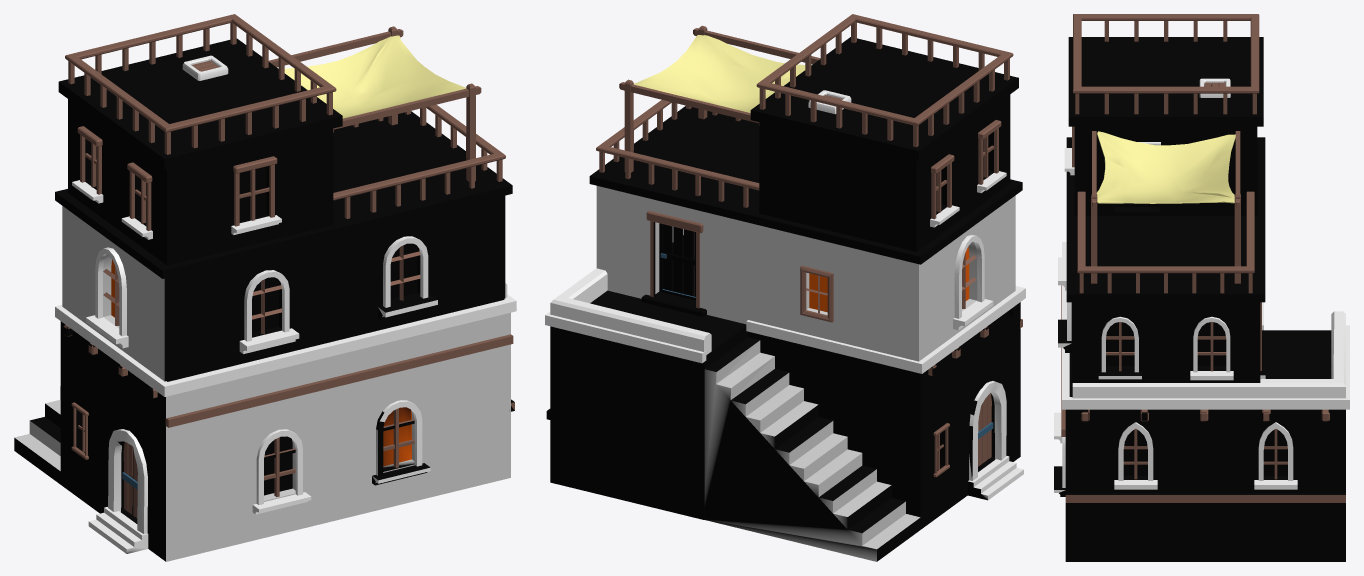
Rendered from civilian_house_31_a.FBX.
3 views of the same model, side by side, from view 1: azimuth 30°, elevation 25°; view 2: azimuth 150°, elevation 25°; view 3: azimuth 270°, elevation 25° (orthographic). The views are drawn at different scales.
Parts seen in each view (by area): view 1: civilian_house_31_a_LOD0; view 2: civilian_house_31_a_LOD0; view 3: civilian_house_31_a_LOD0.
Part boxes in pixels (<box>): civilian_house_31_a_LOD0: <box>14,14,516,561</box>; civilian_house_31_a_LOD0: <box>545,14,1025,561</box>; civilian_house_31_a_LOD0: <box>1054,14,1349,561</box>.
Size of what is drawn, in the model's own units: 1146 by 1244 by 844.
